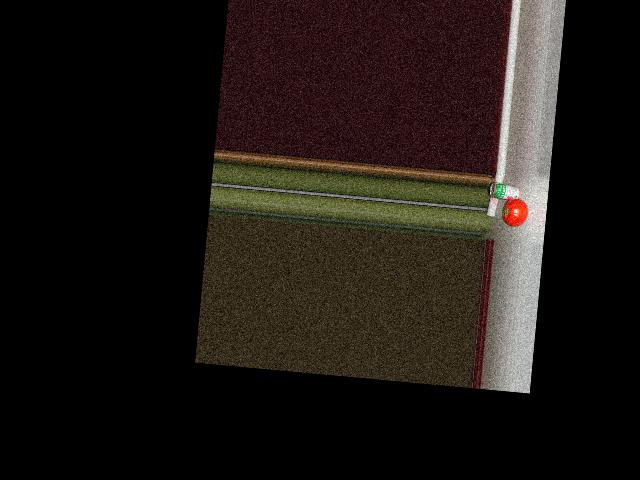tomato: (502, 198, 529, 227)
